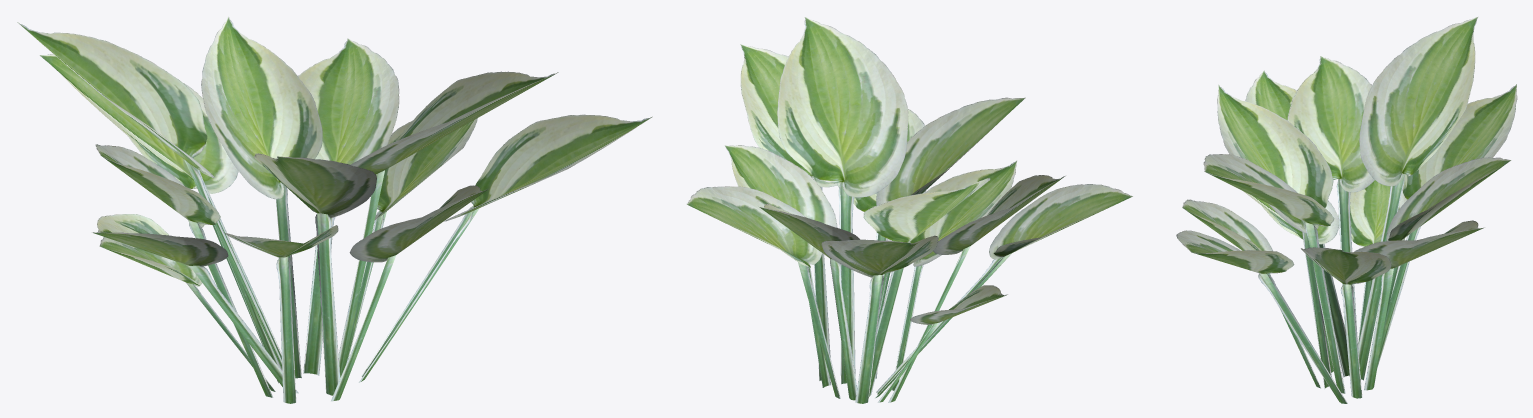
The model's file is plant_small_wg_02X.fbx.
3 renders of one model, left to right at view 1: azimuth 30°, elevation 25°; view 2: azimuth 150°, elevation 25°; view 3: azimuth 270°, elevation 25°, orthographic. The views are drawn at different scales.
Parts seen in each view (by area): view 1: plant_small_wg_02X; view 2: plant_small_wg_02X; view 3: plant_small_wg_02X.
Part boxes in pixels (x1,y1,x2,y2): plant_small_wg_02X: (17,17,652,403); plant_small_wg_02X: (686,17,1132,403); plant_small_wg_02X: (1176,17,1517,403).
Size of the model in its own units: 97.86 by 64.87 by 72.6.
